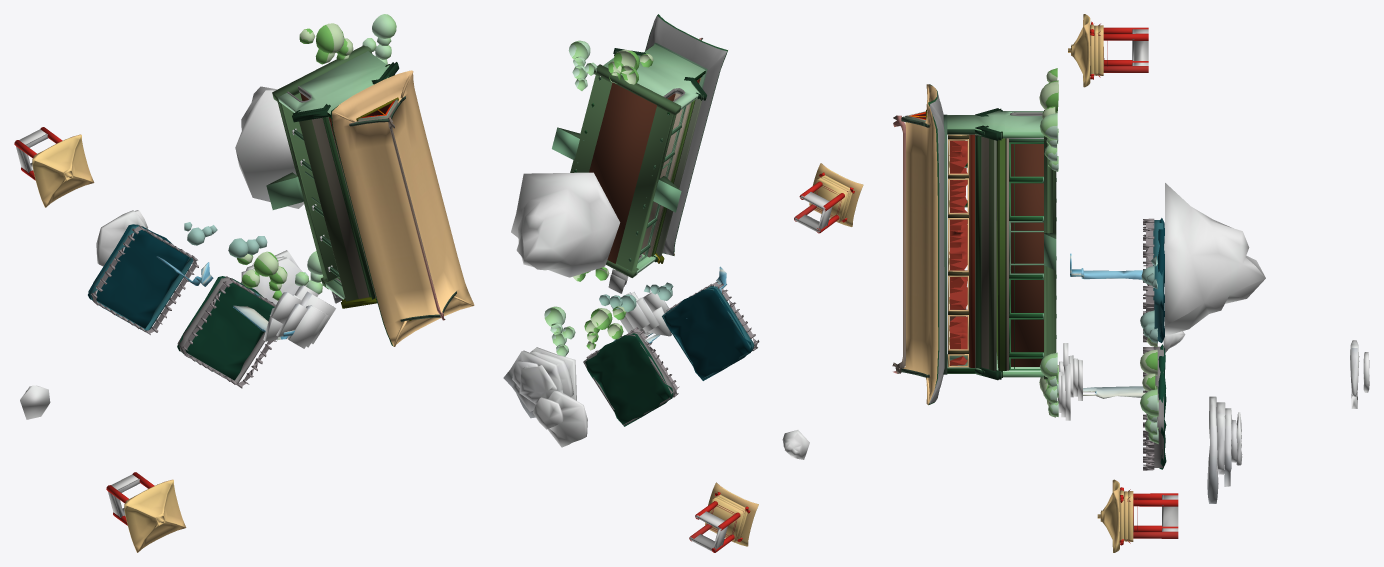
Rendered from tushu.obj.
The picture shows the model from 3 angles, left to right: view 1: azimuth 30°, elevation 25°; view 2: azimuth 150°, elevation 25°; view 3: azimuth 270°, elevation 25°; orthographic projection. The views are drawn at different scales.
Bounding box in the file's own units: 39.32 × 47.45 × 37.49.
